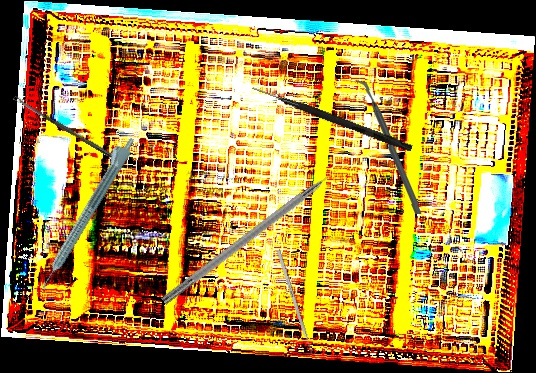Chopper: (352, 79, 425, 215)
Handpiece: (30, 130, 139, 294)
Hook Surgical: (160, 155, 355, 307), (250, 85, 414, 152)
Pusher: (276, 249, 316, 361)
Surgical Spoon: (12, 94, 114, 159)
